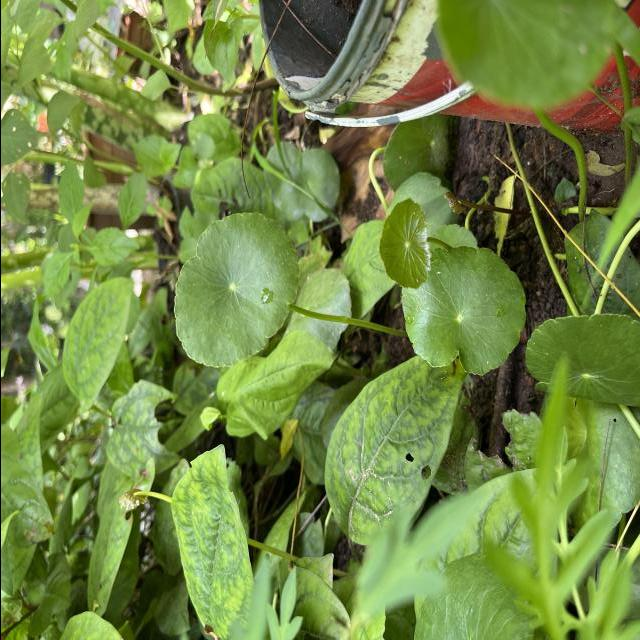Bacopa monnieri: (169, 209, 301, 370), (396, 243, 528, 379), (375, 196, 433, 291)
